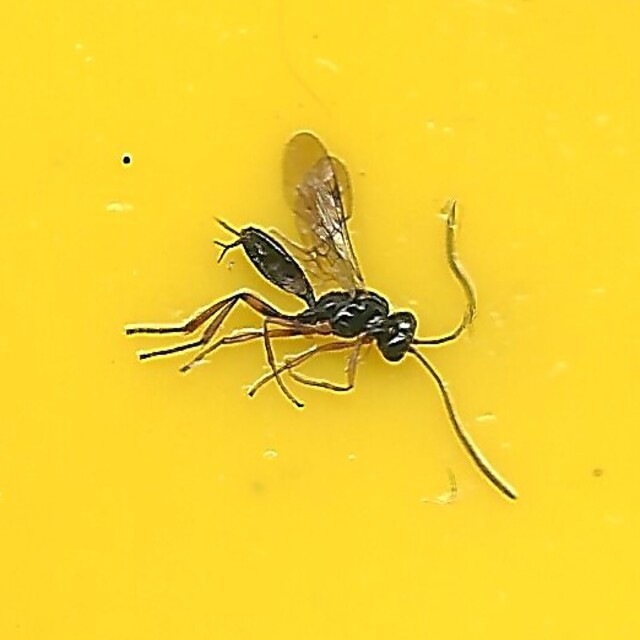Hymenoptera: (123, 134, 517, 506)
